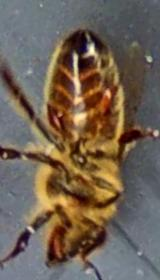varroa_mite: (32, 94, 78, 142), (88, 78, 124, 120)
